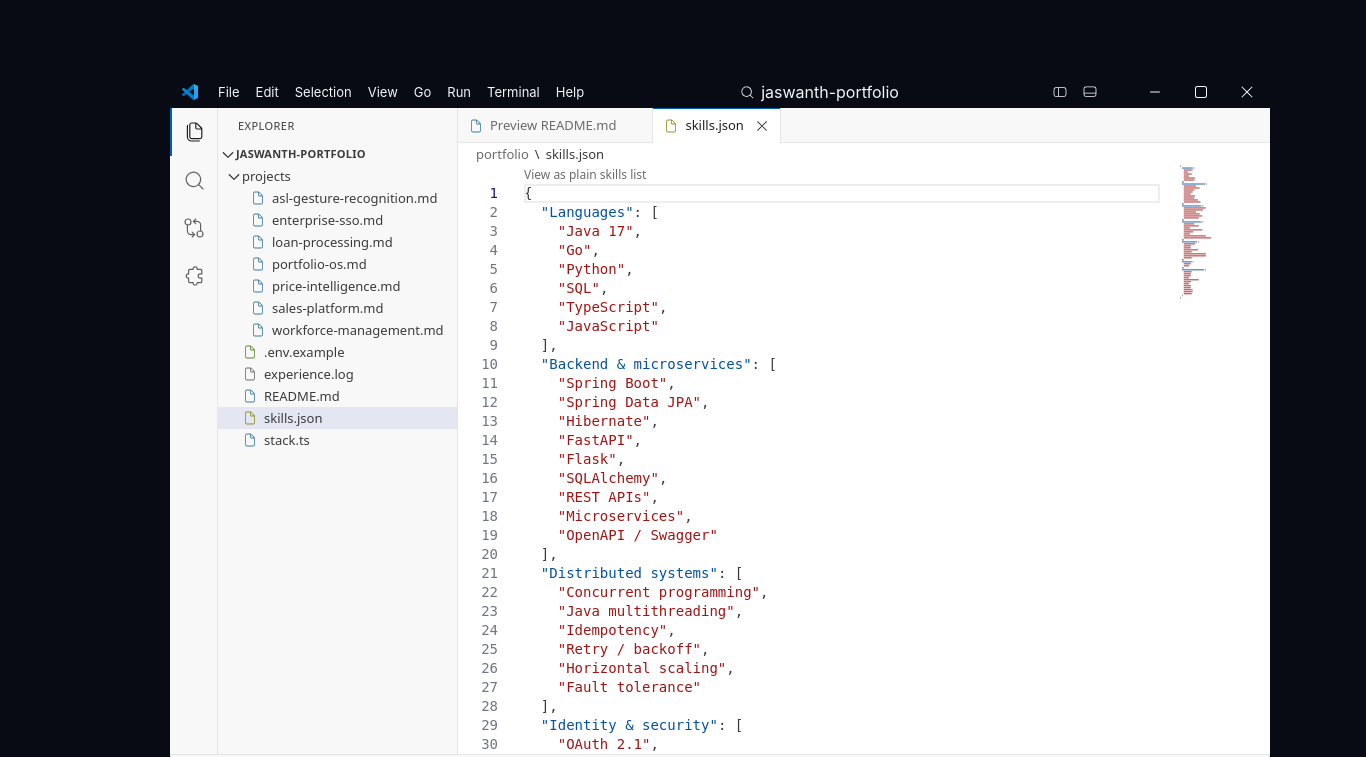
Test case: WIN-CODE-04 backslash paths and the PowerShell terminal panel › the panel mounts the terminal only when opened, with a PowerShell prompt
Click the button named "Panel": point(1090, 92) [1076,80,1104,104]
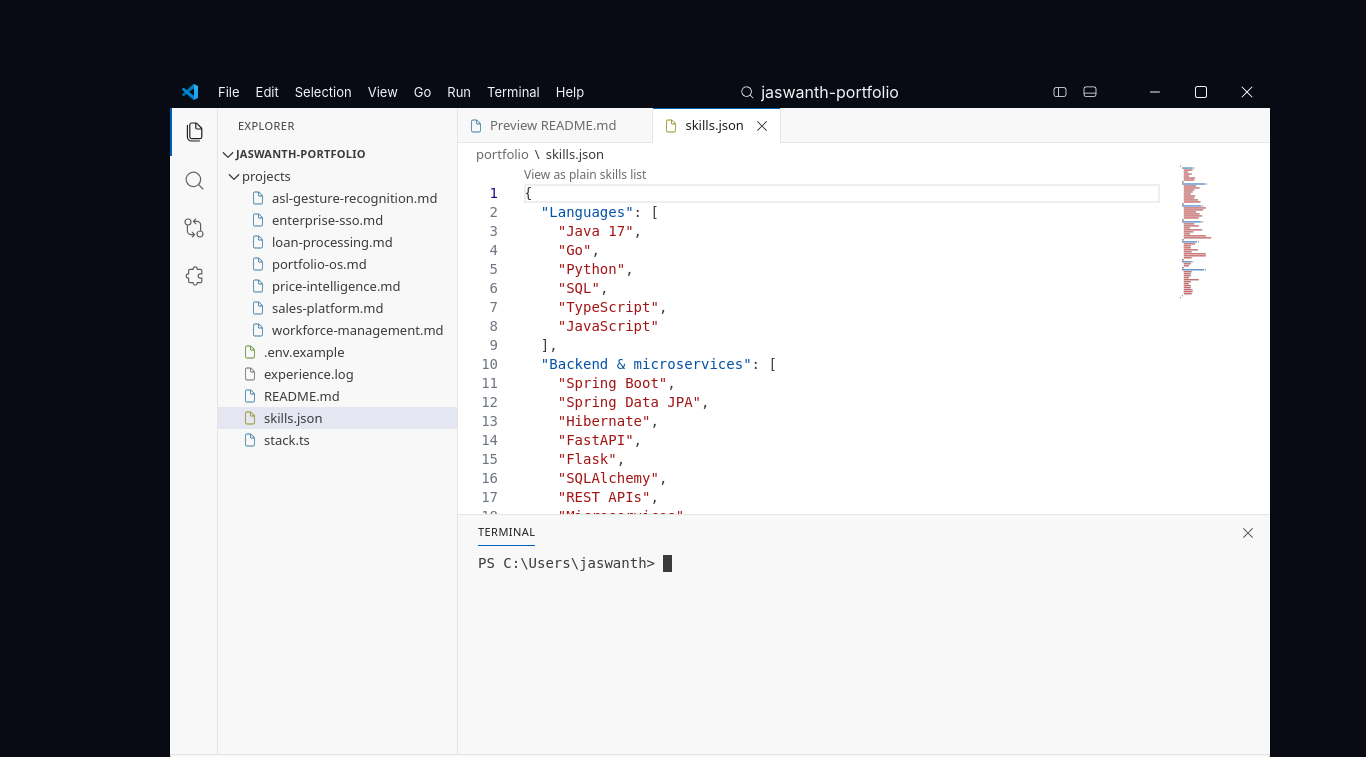
Expected: the element named "Panel" is shown, [458,514,1270,754]
Expected: the field named "Command, current directory" is shown, [663,554,1250,573]
Expected: the text "PS C:\\Users\\jaswanth>" shows "PS C:\\Users\\", [478,555,663,571]
// Closing hides the panel (the terminal session stays mounted) and focus falls back to the editor.
Click the button named "Close panel": point(1248, 532) [1234,522,1262,544]
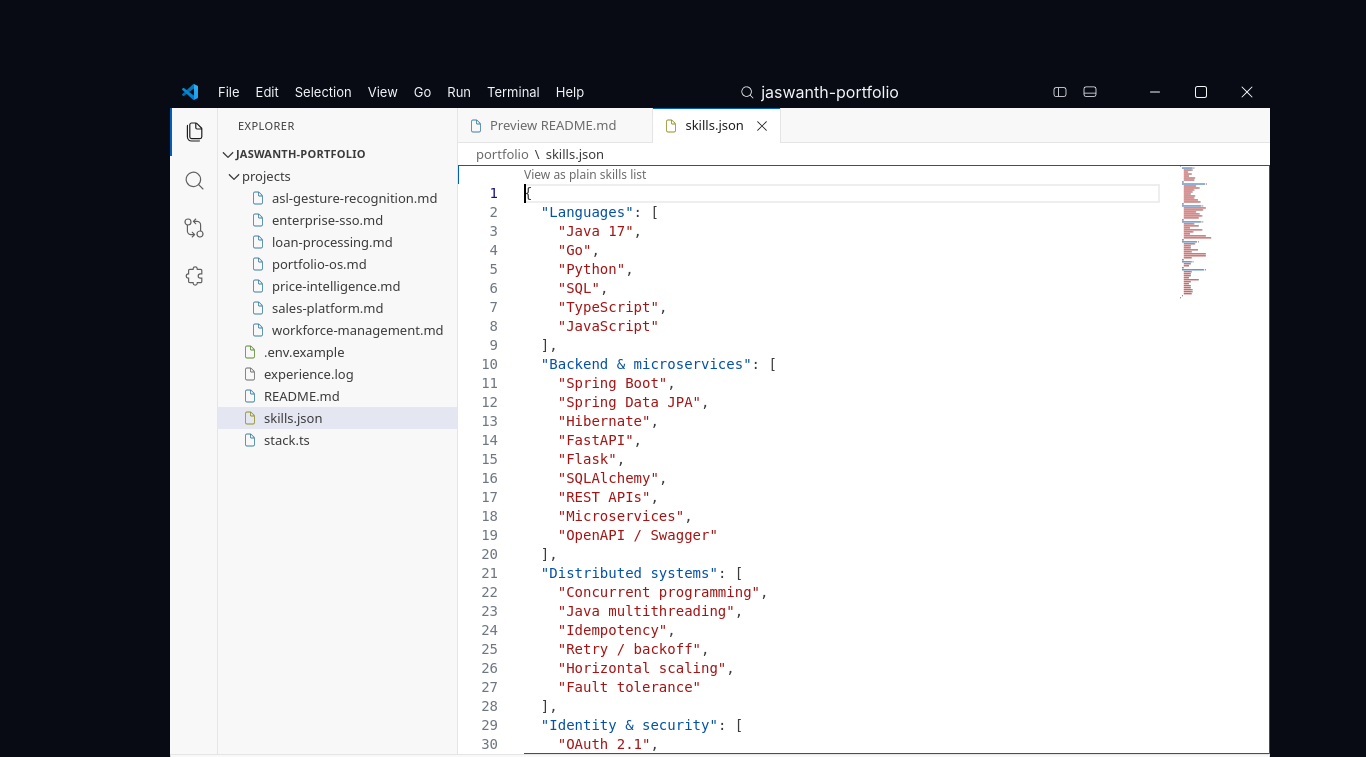
Expected: the text "Terminal PS C:\\Users\\jaswanth>" is gone
